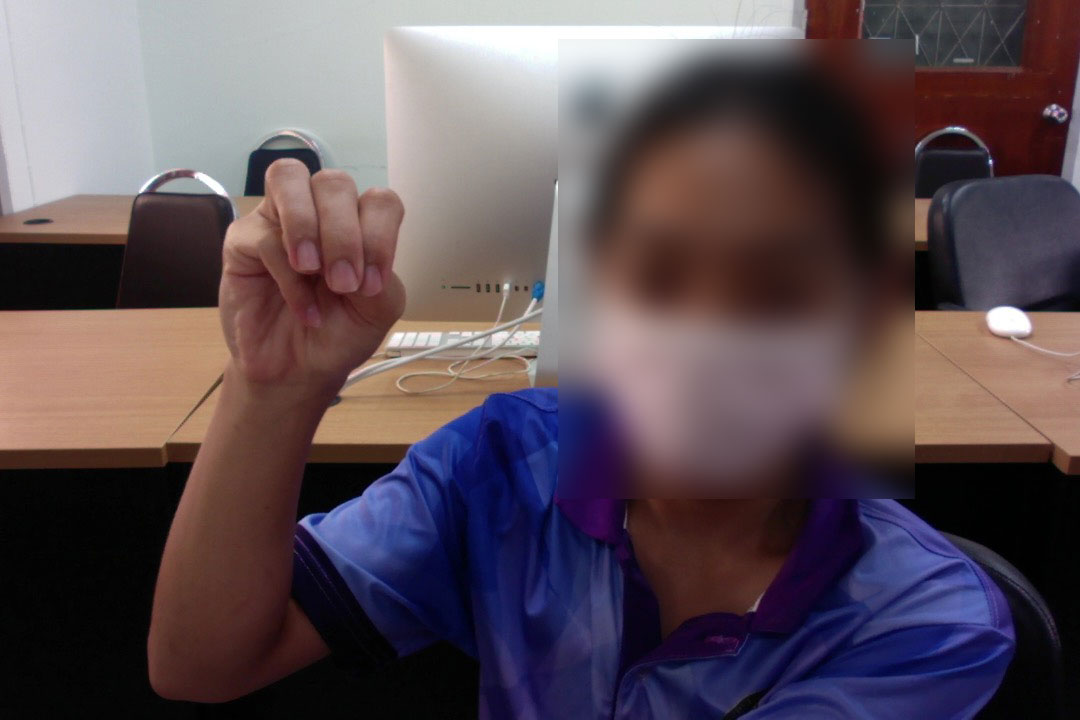mor: (213, 154, 414, 405)
